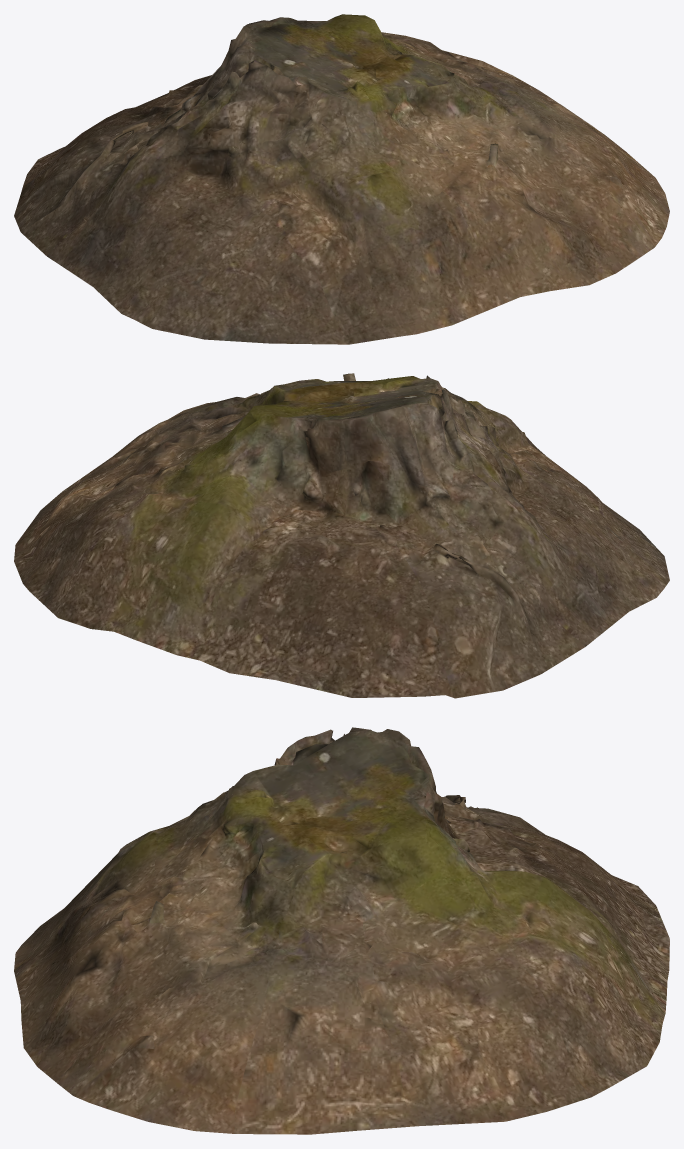
Rendered from tree_stump_02.gltf.
The picture shows the model from 3 angles, top to bottom: view 1: azimuth 30°, elevation 25°; view 2: azimuth 150°, elevation 25°; view 3: azimuth 270°, elevation 25°; orthographic projection. The views are drawn at different scales.
Parts seen in each view (by area): view 1: tree_stump_02; view 2: tree_stump_02; view 3: tree_stump_02.
Part boxes in pixels (box(x1,y1,x2,y2)): tree_stump_02: box(14, 14, 669, 344); tree_stump_02: box(14, 373, 669, 698); tree_stump_02: box(14, 727, 669, 1134).
Size of the model in its own units: 1.52 by 0.5196 by 1.39.
1 material, 1 textured.
